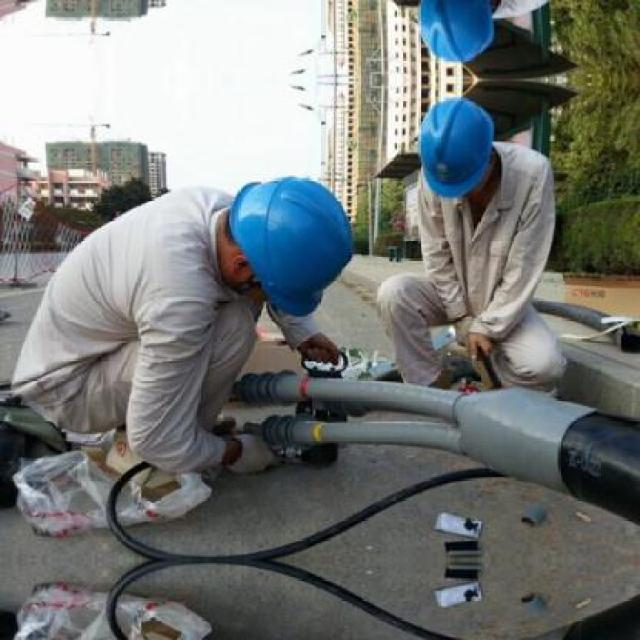helmet: (215, 168, 363, 312), (409, 94, 502, 201), (409, 0, 503, 68)
